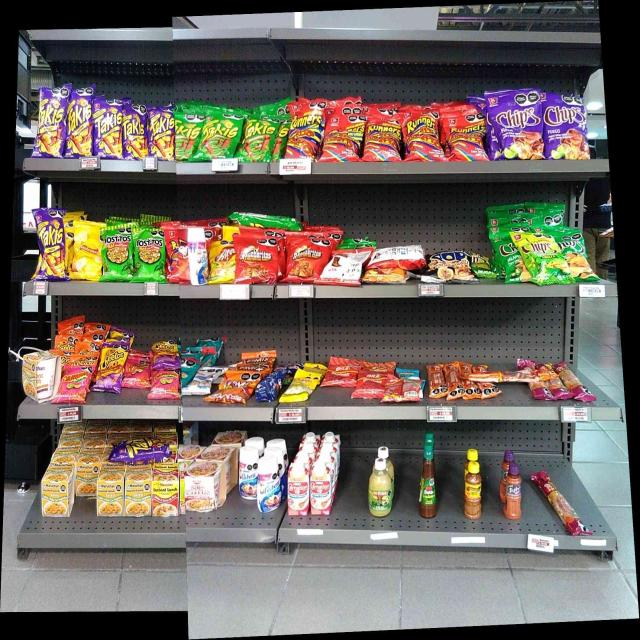bitzEnchilado90: (329, 360, 356, 387), (359, 373, 384, 397)
bitzEnchilado95: (498, 371, 556, 383), (446, 363, 461, 398), (463, 363, 477, 400), (429, 365, 445, 397), (480, 365, 494, 399)
bitzHabanero: (538, 473, 588, 535), (558, 363, 585, 401)
botaneraChilito: (464, 462, 484, 520)
cheetosFlaminHot: (102, 341, 125, 393), (153, 340, 179, 366)
chipsFuego: (490, 92, 543, 159), (545, 92, 590, 158)
chipsJalapeno: (568, 229, 594, 282), (497, 235, 520, 285)
chipsPapatinas: (522, 230, 566, 284)
churrumais: (65, 364, 88, 402), (151, 369, 179, 399), (127, 356, 150, 388)
delPrimoSalsa: (368, 457, 392, 518)
fritosLimon: (210, 241, 233, 281)
leoCacahuates: (194, 366, 215, 394)
leoMix: (222, 369, 254, 403), (241, 352, 276, 367)
maruchanPollo: (23, 351, 57, 398), (43, 463, 72, 517), (98, 463, 123, 518), (125, 465, 151, 516)
maruchanRes: (153, 462, 179, 517)
nestleCarnation: (310, 460, 332, 515), (288, 460, 309, 517)
nestleLechera: (258, 454, 282, 512), (188, 224, 209, 284), (239, 445, 256, 502)
nissinRes: (187, 460, 223, 512)
popKarameladas: (426, 249, 474, 283)
productoAtras: (373, 248, 424, 269), (331, 252, 364, 284), (386, 376, 420, 402), (261, 370, 280, 402)
rancheritos: (236, 234, 277, 284), (287, 234, 326, 283)
runners: (404, 113, 442, 162), (447, 115, 486, 161), (325, 115, 360, 162), (289, 104, 318, 160), (366, 116, 399, 160)
sabritasOriginal: (73, 222, 100, 280)
salsaBufalo: (419, 442, 438, 518)
semillasCalabaza: (291, 372, 313, 401)
tajinDulce: (505, 464, 523, 520)
takisFuego: (35, 208, 66, 280), (36, 87, 64, 158), (68, 88, 93, 159), (96, 98, 123, 159), (113, 437, 170, 461), (151, 104, 174, 161), (125, 103, 148, 159)
takisOriginal: (202, 112, 237, 160), (243, 115, 274, 160), (177, 111, 198, 161)
tostitos: (134, 228, 166, 283), (103, 226, 132, 282)
